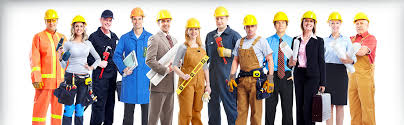Person_wearing_helmet: (65, 13, 89, 29), (125, 5, 146, 21), (125, 5, 147, 20), (298, 4, 317, 21), (239, 13, 259, 29), (181, 15, 202, 29), (351, 10, 372, 24), (239, 13, 260, 26), (39, 9, 58, 21)
